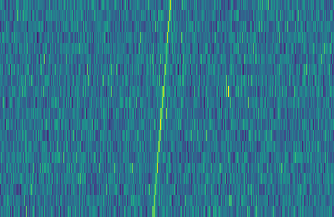signal: (148, 0, 175, 217)
